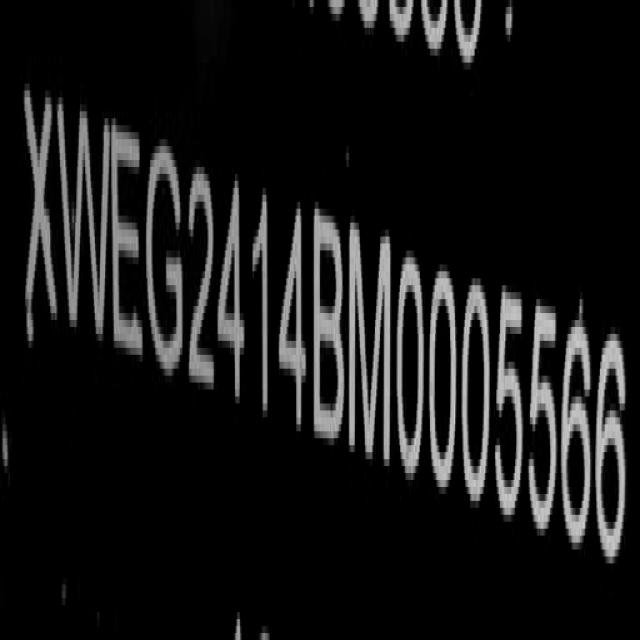0: (396, 244, 427, 490), (460, 271, 490, 518), (430, 257, 459, 501)
1: (254, 183, 273, 432)
2: (189, 155, 218, 405)
4: (279, 190, 310, 444), (217, 171, 247, 422)
5: (530, 287, 559, 539), (498, 280, 527, 528)
6: (560, 303, 592, 557), (599, 321, 631, 570)
B: (313, 207, 346, 456)
E: (113, 110, 145, 374)
G: (144, 127, 183, 390)
M: (350, 216, 392, 477)
W: (56, 78, 115, 364)
X: (19, 70, 59, 355)
